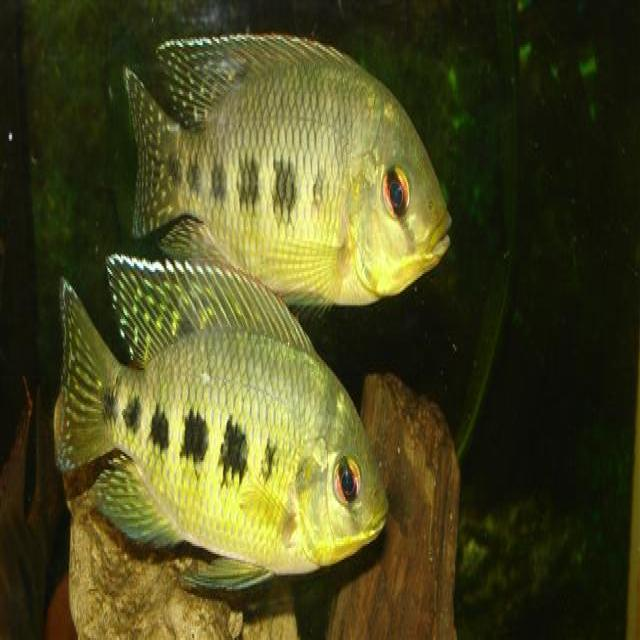ikan: (51, 270, 389, 589), (120, 28, 452, 310)
